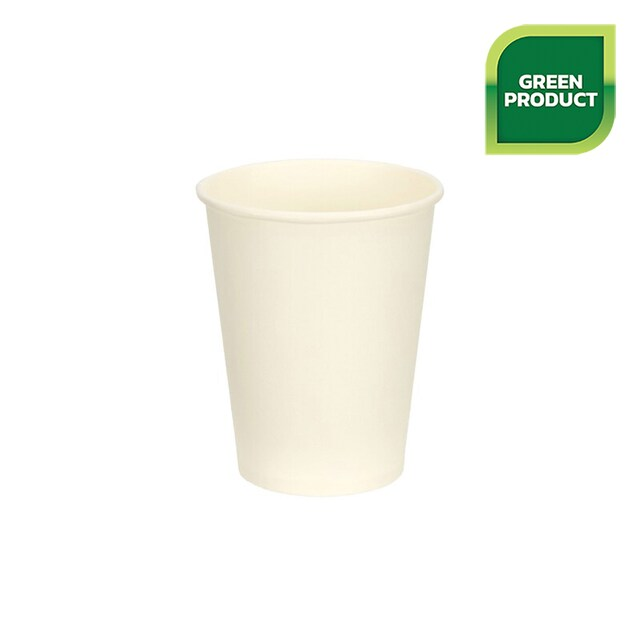PaperCup: (192, 156, 449, 498)
